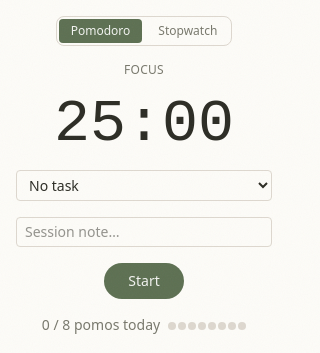
Test: Focus UI › shows the initial pomodoro clock and starts a session
The width and height of the screenshot is (320, 353).
Expected: the button named "Timer" reads "25:00", [46,94,242,154]
Click the button "Start": (144, 281) [104,263,184,299]
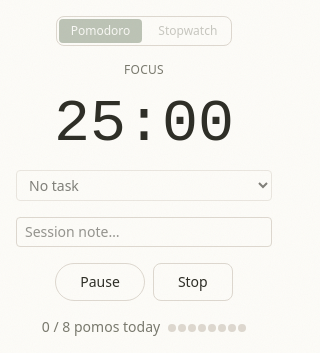
Expected: the button "Pause" is shown, [55,263,145,301]
